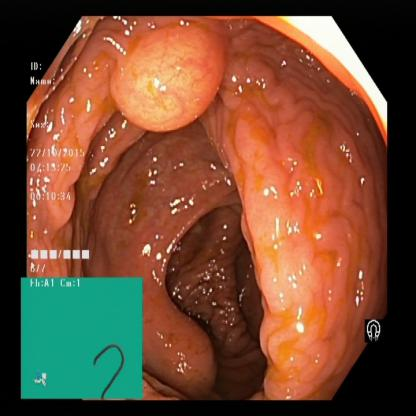Labels: (25, 46, 98, 276), (20, 278, 143, 398)
Polyps: (106, 34, 235, 124)
